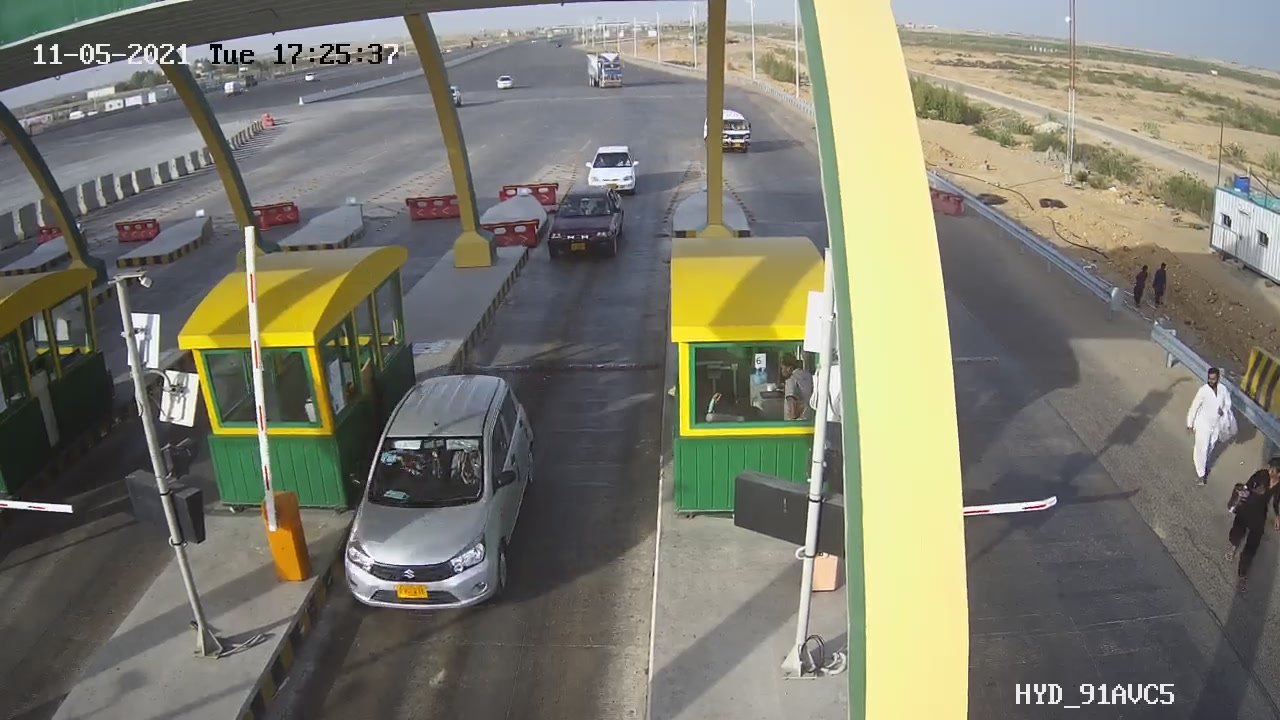F1: (331, 356, 548, 633)
